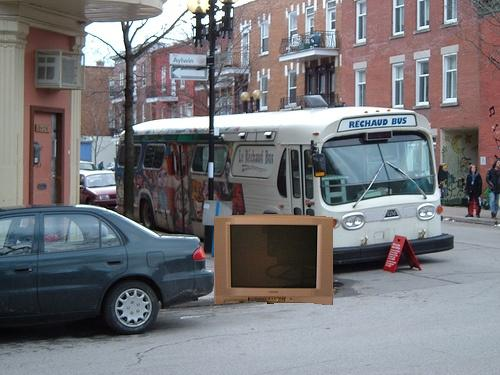tampered: (215, 215, 333, 305)
